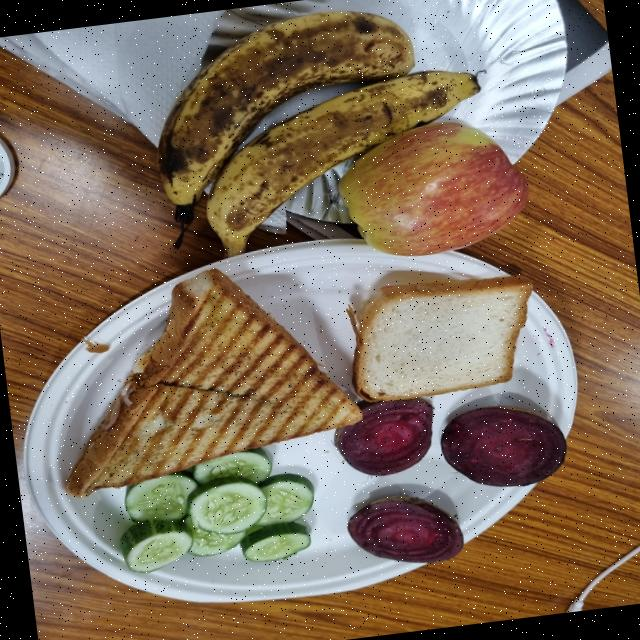apple: (336, 116, 524, 257)
banana: (200, 70, 476, 255), (157, 10, 413, 207)
cucumber: (185, 481, 264, 535), (117, 521, 192, 573), (120, 471, 194, 523), (234, 519, 310, 564), (254, 471, 313, 527), (184, 449, 270, 487), (183, 516, 240, 557)
